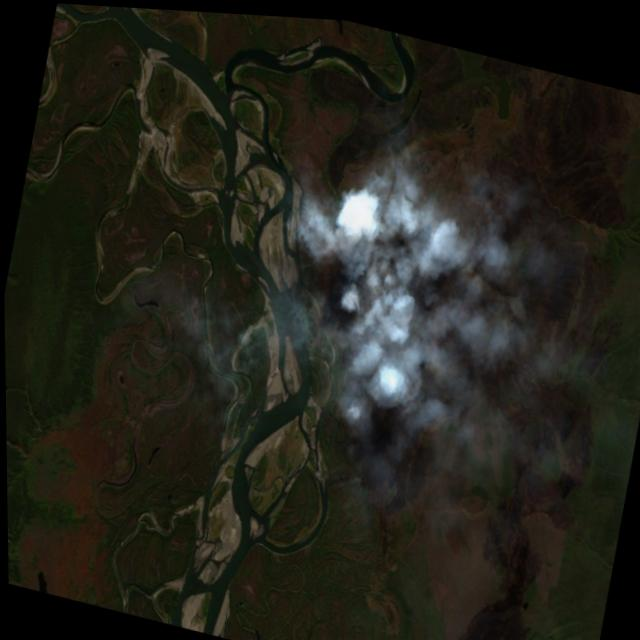fire: (306, 175, 444, 341)
